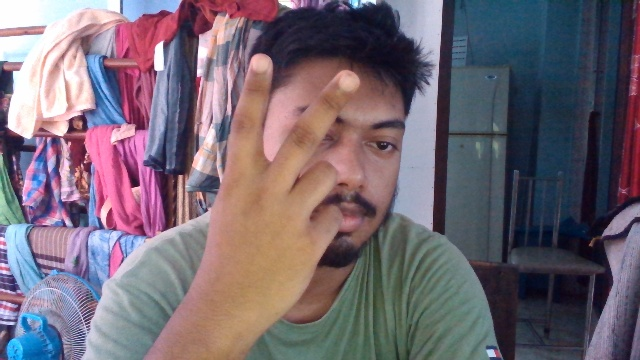thanks: (212, 45, 361, 330)
